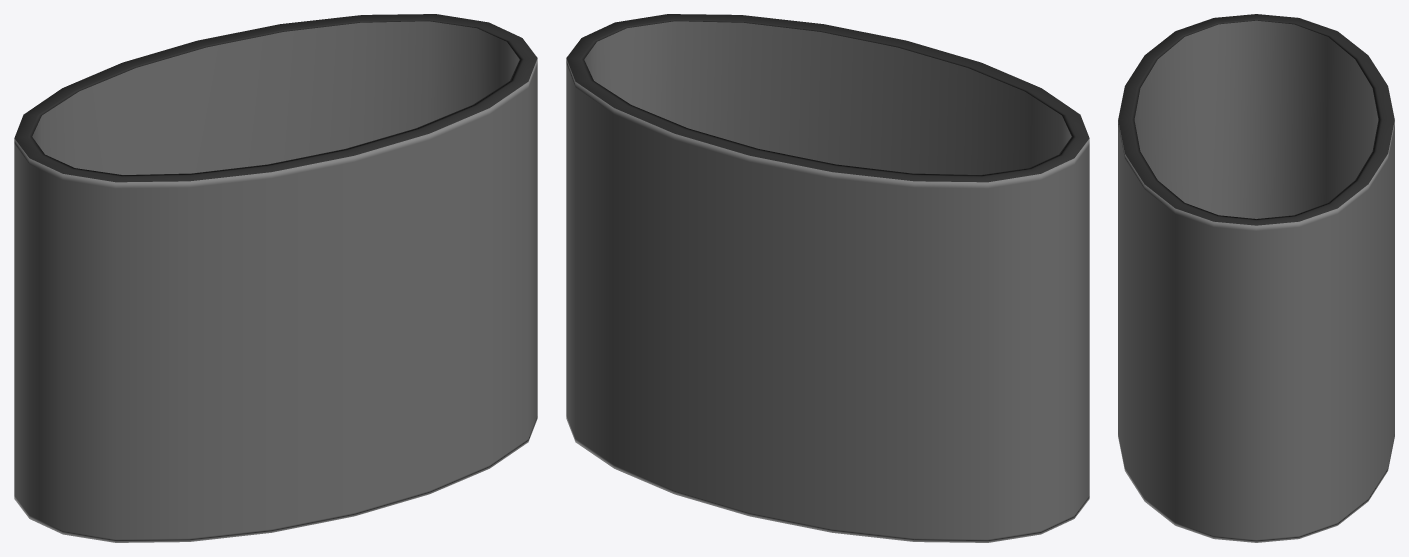
The model's file is submesh_Metal_Trash_Bin.fbx.
The picture shows the model from 3 angles, left to right: view 1: azimuth 30°, elevation 25°; view 2: azimuth 150°, elevation 25°; view 3: azimuth 270°, elevation 25°; orthographic projection. The views are drawn at different scales.
Parts seen in each view (by area): view 1: pCylinder12; view 2: pCylinder12; view 3: pCylinder12.
Boxes of the visible parts, <box> form: pCylinder12: <box>14,14,537,542</box>; pCylinder12: <box>566,14,1089,542</box>; pCylinder12: <box>1118,14,1394,542</box>.
Bounding box in the file's own units: 2.12 × 1.48 × 1.17.
